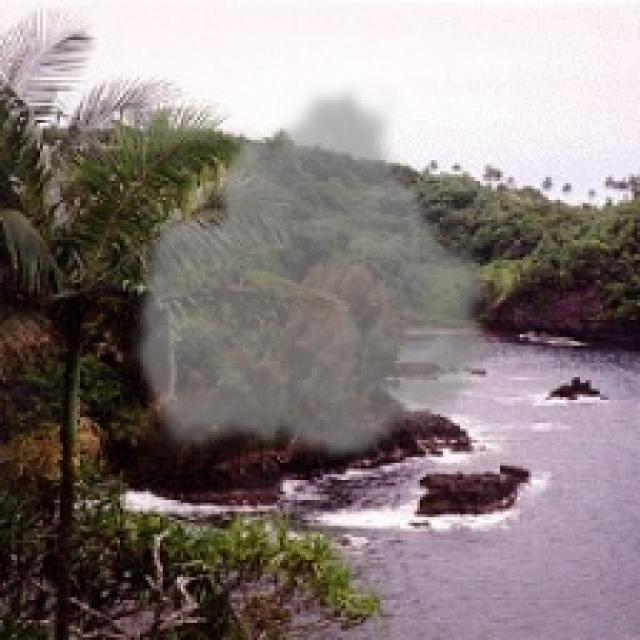smoke: (129, 80, 500, 463)
